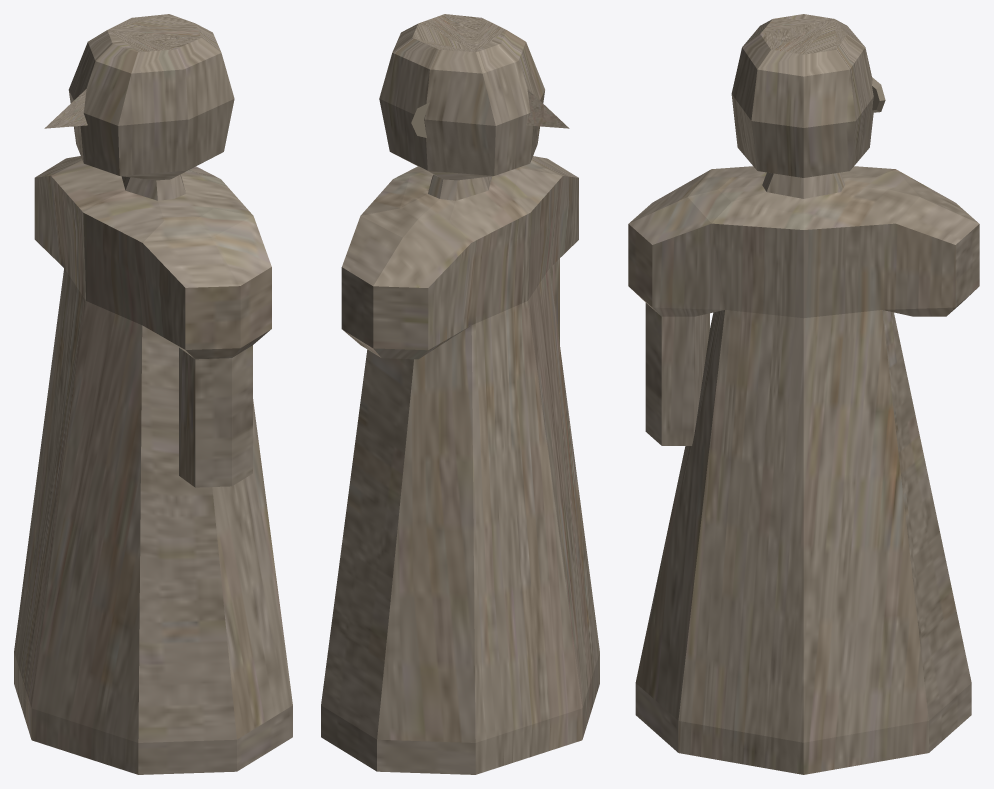
The model's file is Statue2.fbx.
The picture shows the model from 3 angles, left to right: view 1: azimuth 30°, elevation 25°; view 2: azimuth 150°, elevation 25°; view 3: azimuth 270°, elevation 25°; orthographic projection.
Visible parts, largest first — view 1: Circle, Cube; view 2: Circle, Cube; view 3: Circle.
Part boxes in pixels (<box>): Circle: <box>14,14,292,774</box>; Cube: <box>44,89,87,128</box>; Circle: <box>321,14,599,774</box>; Cube: <box>526,89,569,128</box>; Circle: <box>628,14,979,774</box>.
Bounding box in the file's own units: 71.9 × 191 × 89.1.
